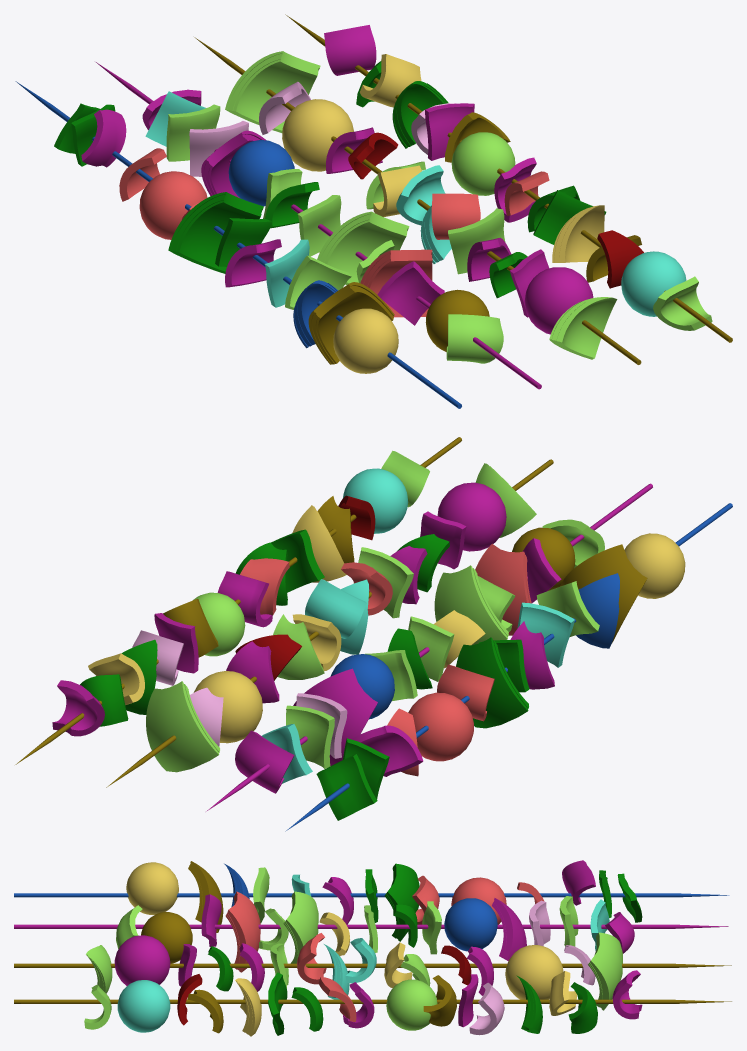
The picture shows the model from 3 angles, top to bottom: view 1: azimuth 30°, elevation 25°; view 2: azimuth 150°, elevation 25°; view 3: azimuth 270°, elevation 25°; orthographic projection. The views are drawn at different scales.
Visible parts, largest first — view 1: onion01_003, onion01_011, tomato_005, tomato_001, onion01_009, tomato_002, tomato_008, tomato_006, tomato_007, tomato_004, onion01_001, onion02_002 (+49 smaller); view 2: onion01_011, tomato_002, tomato_006, onion01_003, tomato_005, onion01_009, tomato_001, onion01_001, tomato_007, onion01_007, onion01_005, Group_003 (+55 smaller); view 3: tomato_005, tomato_004, tomato_007, tomato_006, tomato_001, bamboo_stick_001, tomato_008, bamboo_stick_003, bamboo_stick_004, bamboo_stick_002, onion01_011, tomato_003 (+53 smaller).
Part boxes in pixels (x1,y1,x2,y2): onion01_003: (168,192,263,273); onion01_011: (225,51,320,132); tomato_005: (282,99,353,171); tomato_001: (333,308,398,373); onion01_009: (317,211,409,284); tomato_002: (139,171,207,239); tomato_008: (451,132,515,195); tomato_006: (524,267,593,334); tomato_007: (621,251,686,316); tomato_004: (228,140,294,206); onion01_001: (308,282,394,364); onion02_002: (549,297,617,359); onion01_011: (146,681,219,772); tomato_002: (408,692,473,761); tomato_006: (437,482,506,551); onion01_003: (456,637,528,728); tomato_005: (193,671,262,743); onion01_009: (434,565,508,644); tomato_001: (624,533,685,598); onion01_001: (560,544,647,642); tomato_007: (343,468,408,533); onion01_007: (475,543,531,635); onion01_005: (293,668,377,765); Group_003: (316,754,377,820); tomato_005: (505,945,563,999); tomato_004: (444,898,497,951); tomato_007: (117,980,170,1032); tomato_006: (114,935,170,985); tomato_001: (126,862,178,914); bamboo_stick_001: (14,893,729,897); tomato_008: (386,979,437,1030); bamboo_stick_003: (14,963,731,967); bamboo_stick_004: (14,999,731,1003); bamboo_stick_002: (14,924,728,928); onion01_011: (588,932,622,1010); tomato_003: (141,912,192,963).
Size of the model in its own units: 681 by 185 by 1469.
